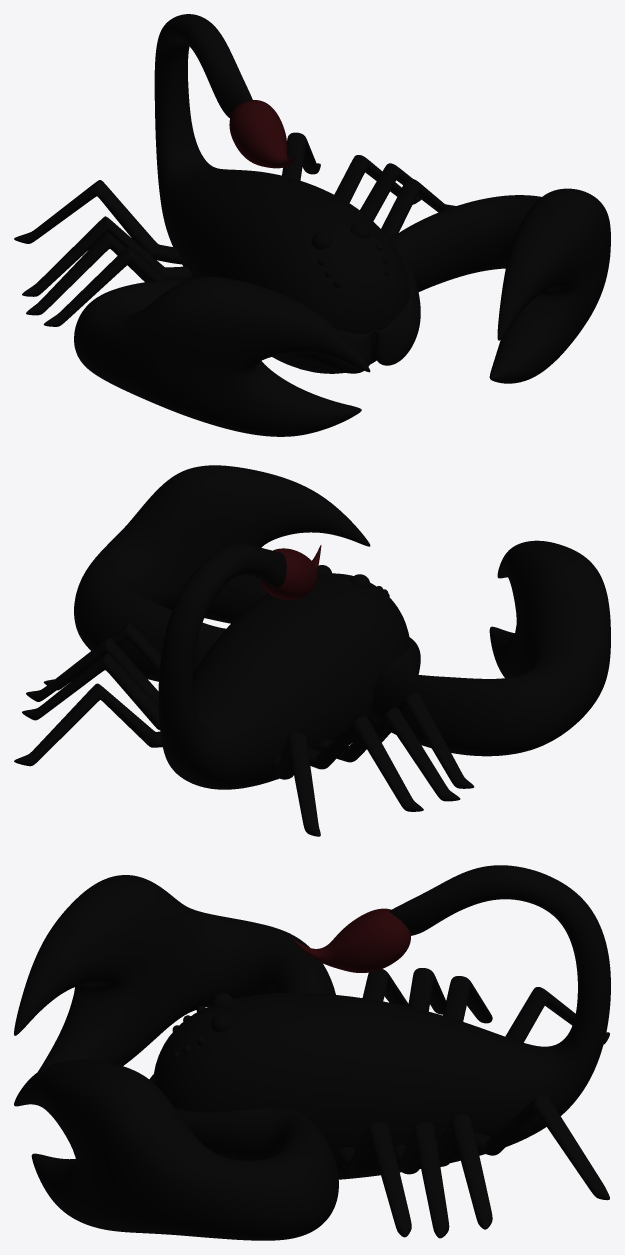
Rendered from scorpionModel.gltf.
The picture shows the model from 3 angles, top to bottom: view 1: azimuth 30°, elevation 25°; view 2: azimuth 150°, elevation 25°; view 3: azimuth 270°, elevation 25°; orthographic projection. The views are drawn at different scales.
Parts seen in each view (by area): view 1: Cube.002, Cube, Cube.003, Cube.001, Sphere; view 2: Cube.002, Cube, Cube.003, Cube.001; view 3: Cube.002, Cube, Cube.003, Cube.001, Sphere.
Boxes of the visible parts, bbox=[...] form: Cube.002: bbox=[74, 188, 610, 436]; Cube: bbox=[154, 14, 409, 373]; Cube.003: bbox=[14, 132, 455, 326]; Cube.001: bbox=[229, 100, 296, 168]; Sphere: bbox=[311, 222, 389, 287]; Cube.002: bbox=[74, 465, 610, 756]; Cube: bbox=[158, 544, 409, 789]; Cube.003: bbox=[14, 623, 474, 836]; Cube.001: bbox=[259, 545, 321, 600]; Cube.002: bbox=[14, 875, 338, 1240]; Cube: bbox=[153, 865, 610, 1179]; Cube.003: bbox=[336, 968, 609, 1238]; Cube.001: bbox=[293, 908, 410, 972]; Sphere: bbox=[172, 993, 233, 1059].
Bounding box in the file's own units: 6.69 × 3.45 × 6.28.
